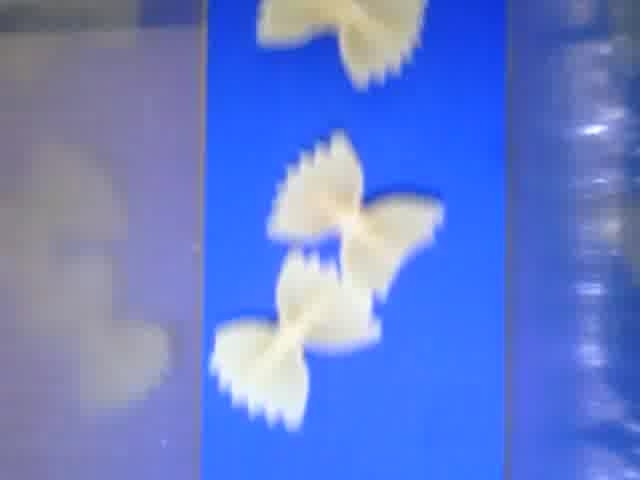farfalle: (211, 247, 382, 428), (266, 130, 445, 298), (256, 1, 424, 90)
